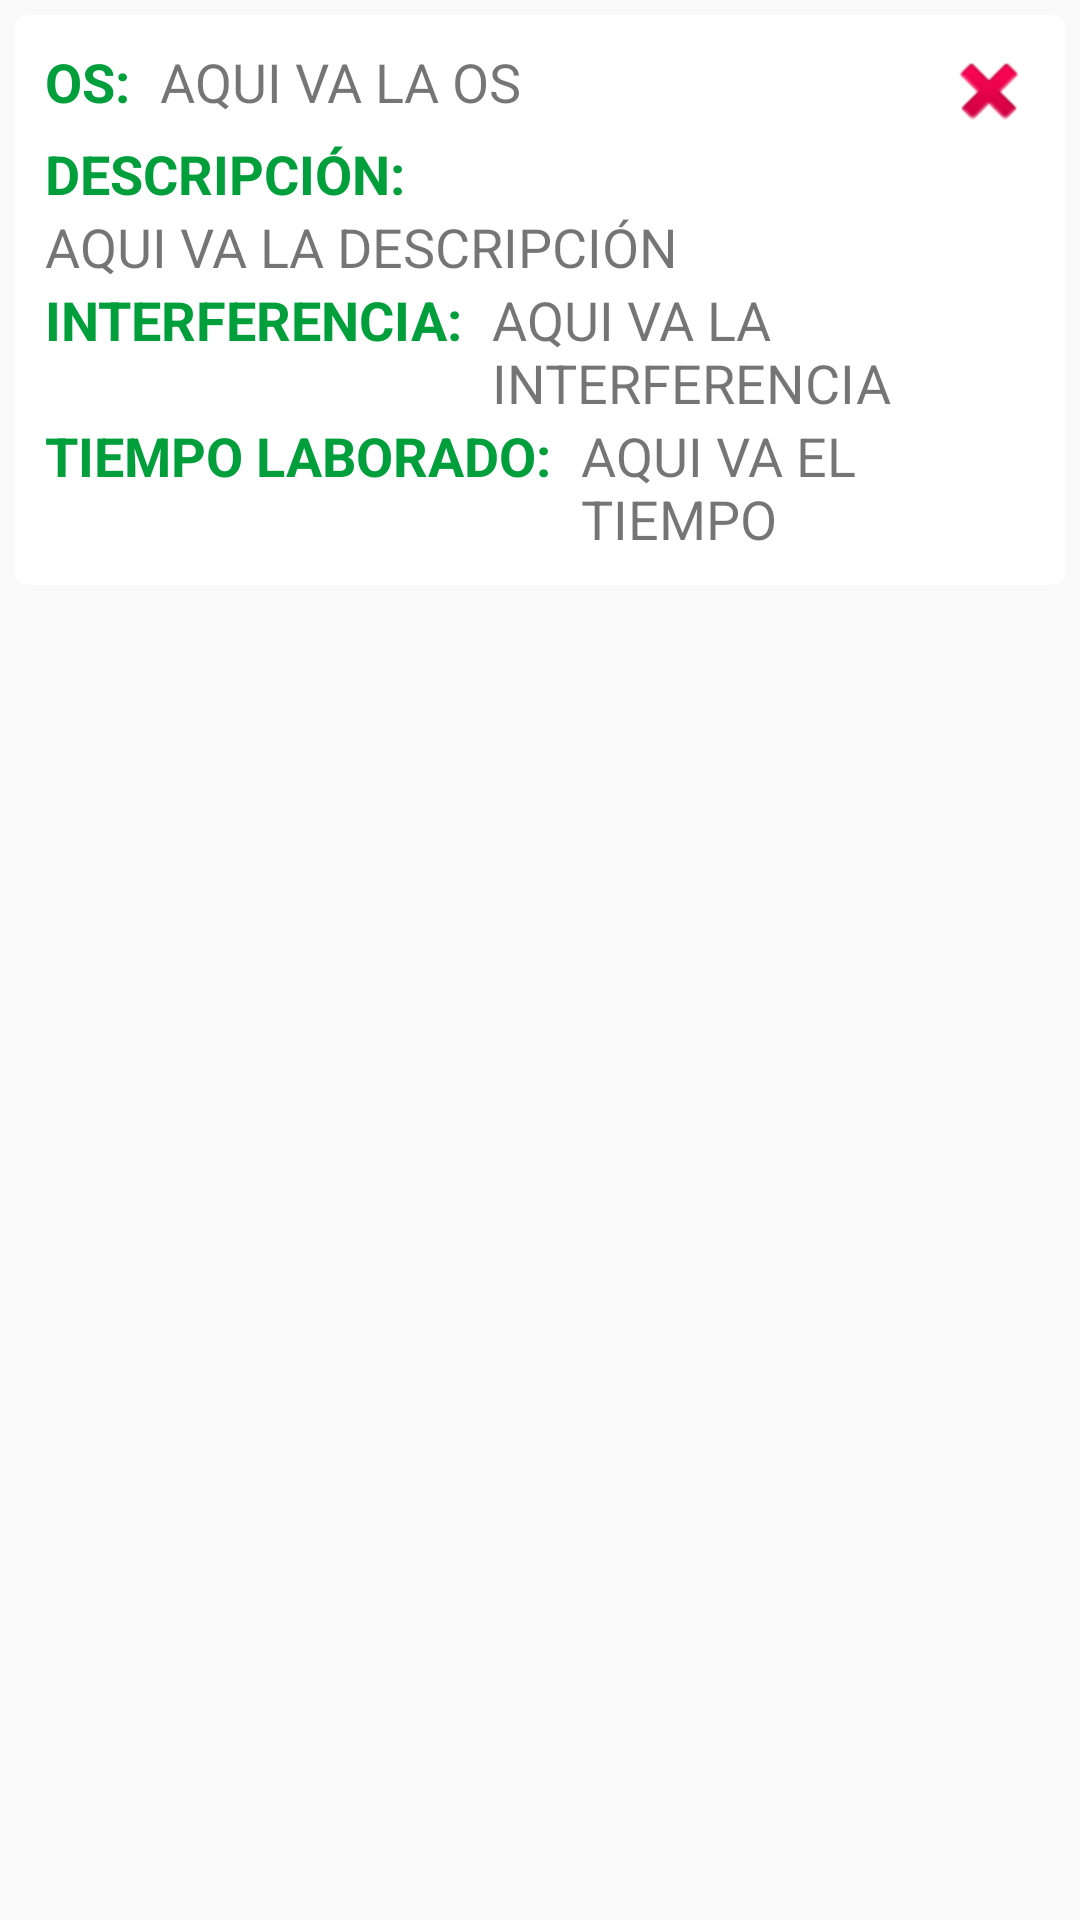

Locate icon controls on the screen. Image size 1080px×1920px, boxes as (x1, y1, x2, y2).
delete: (960, 63, 1018, 120)
